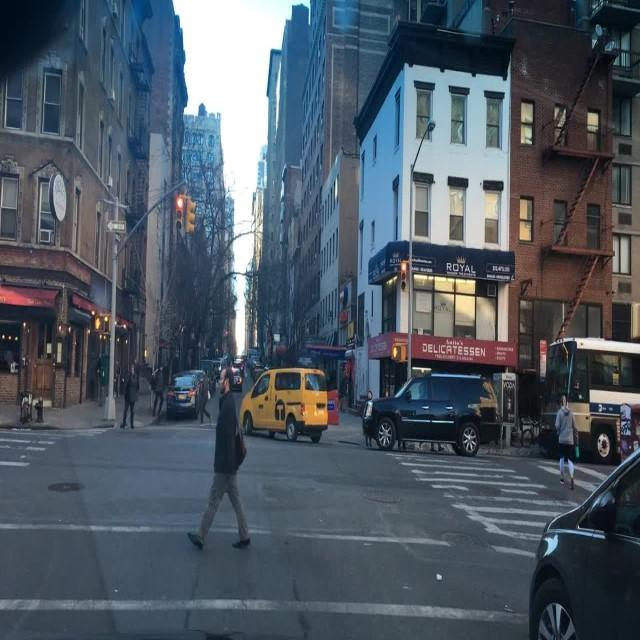normal: (217, 347, 518, 480)
